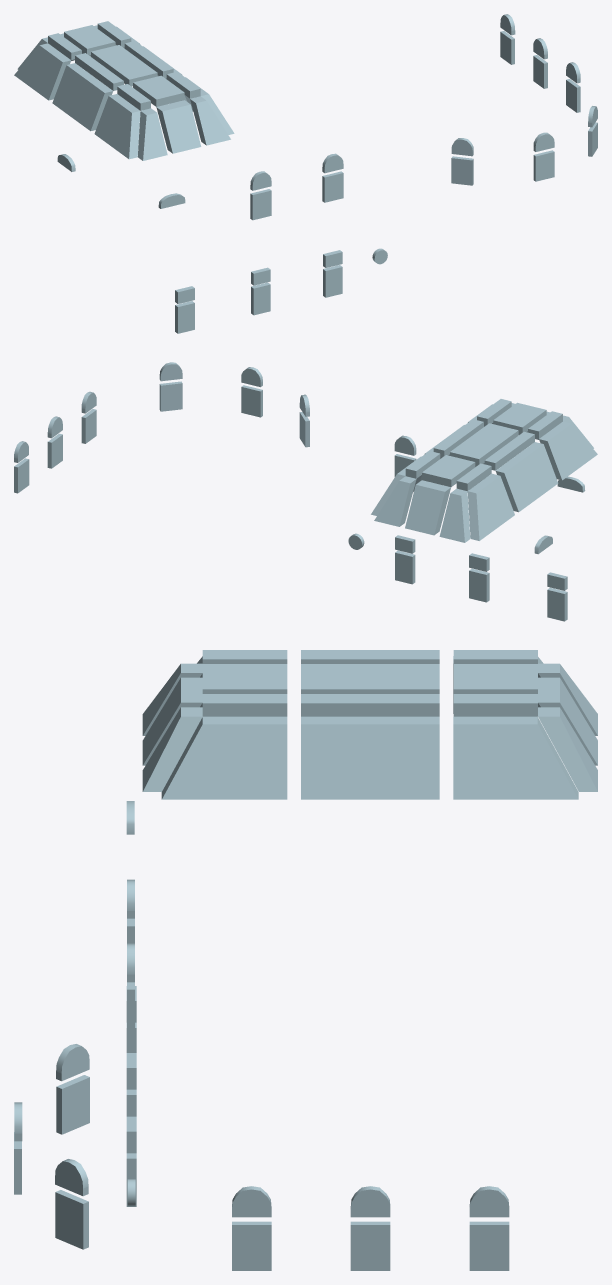
The model's file is cristales.obj.
3 views of the same model, one above another, from view 1: azimuth 30°, elevation 25°; view 2: azimuth 150°, elevation 25°; view 3: azimuth 270°, elevation 25° (orthographic). The views are drawn at different scales.
Parts seen in each view (by area): view 1: pasted__pCube321; view 2: pasted__pCube321; view 3: pasted__pCube321.
Boxes of the visible parts, bbox=[...] form: pasted__pCube321: bbox=[14, 14, 597, 333]; pasted__pCube321: bbox=[14, 362, 597, 621]; pasted__pCube321: bbox=[14, 650, 597, 1270].
Size of the model in its own units: 25.23 by 11.05 by 14.74.
1 material, 1 textured.
